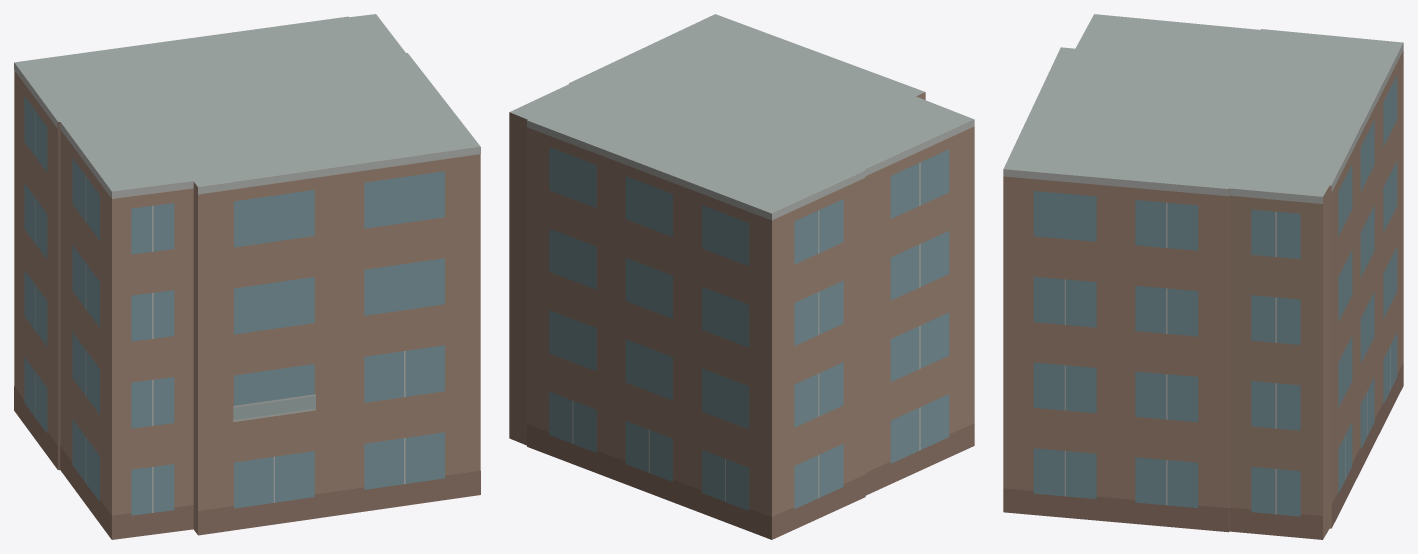
The model's file is survey-upis-32925939.glb.
The picture shows the model from 3 angles, left to right: view 1: azimuth 30°, elevation 25°; view 2: azimuth 150°, elevation 25°; view 3: azimuth 270°, elevation 25°; orthographic projection. The views are drawn at different scales.
Parts seen in each view (by area): view 1: survey-upis-32925939.tmp; view 2: survey-upis-32925939.tmp; view 3: survey-upis-32925939.tmp.
Boxes of the visible parts, x1=… form: survey-upis-32925939.tmp: x1=14, y1=14, x2=480, y2=539; survey-upis-32925939.tmp: x1=509, y1=14, x2=974, y2=539; survey-upis-32925939.tmp: x1=1003, y1=14, x2=1403, y2=539.
Size of the model in its own units: 13.27 by 11.6 by 12.28.
